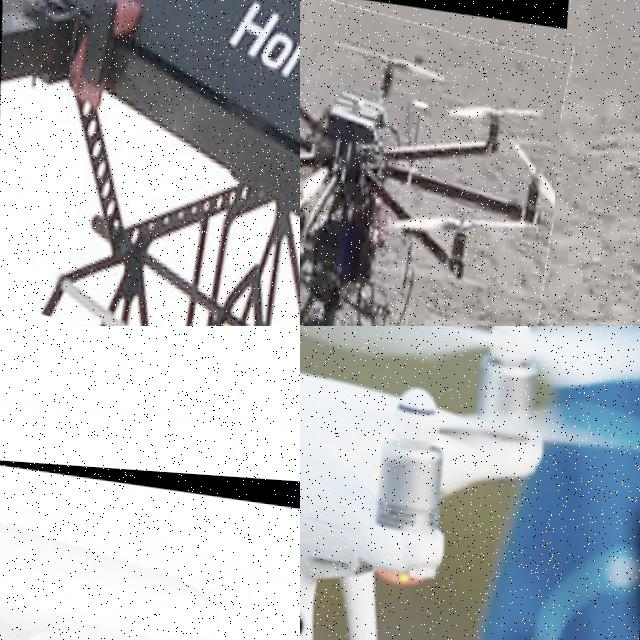drone: (300, 326, 640, 640), (0, 0, 300, 326), (300, 0, 568, 326), (0, 455, 300, 640)
